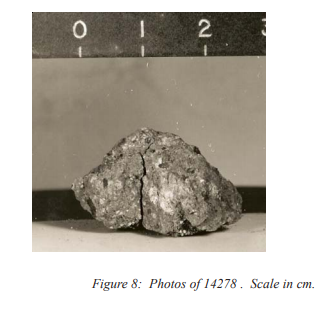Breccia: (79, 113, 239, 248)
